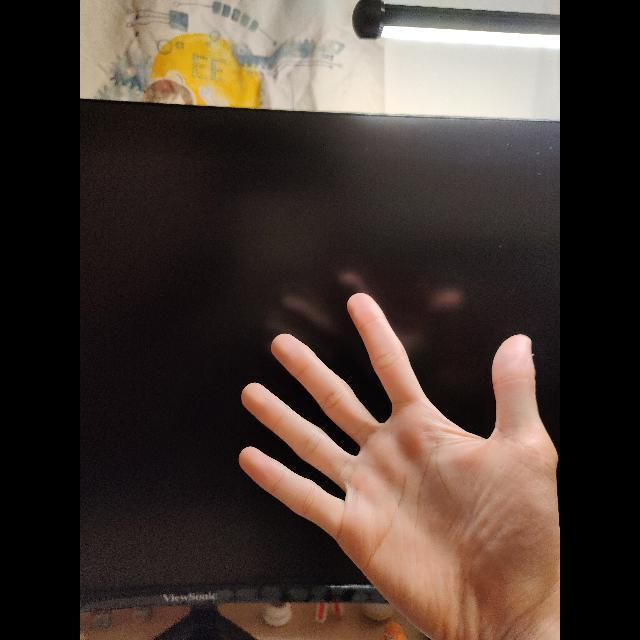bare_hand: (239, 294, 560, 640)
